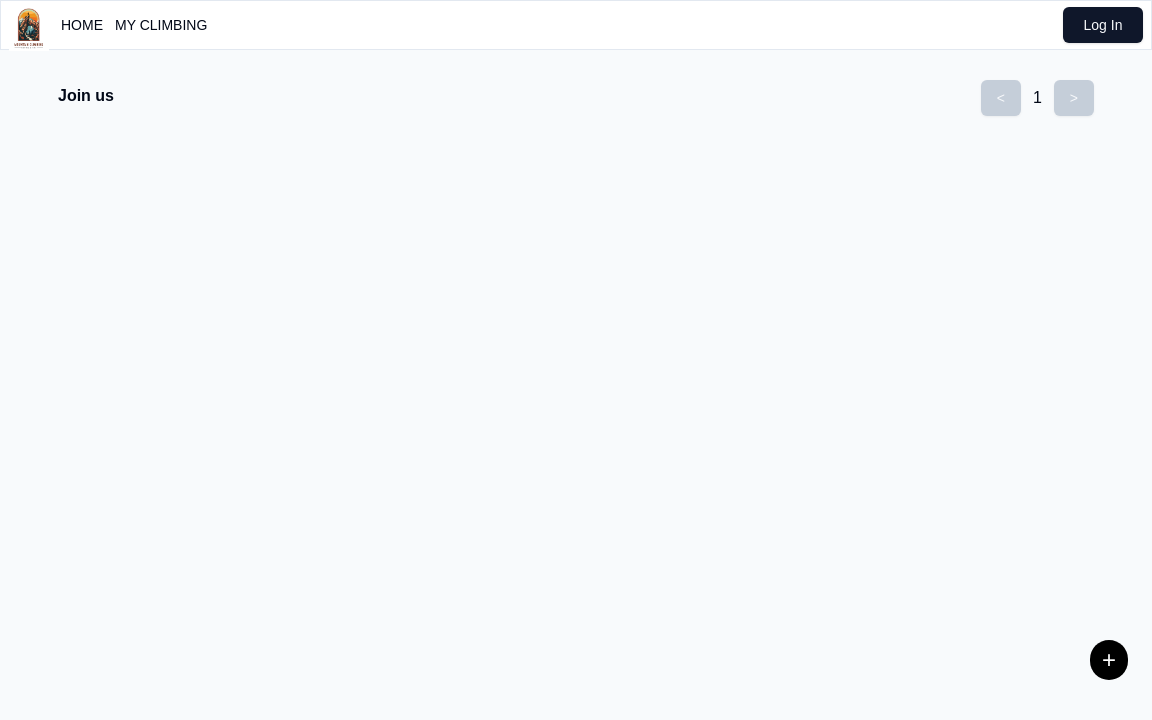
Test: login › should show alert with invalid email
Click the button "Log In": (1103, 25) 1063,7 -> 1143,43
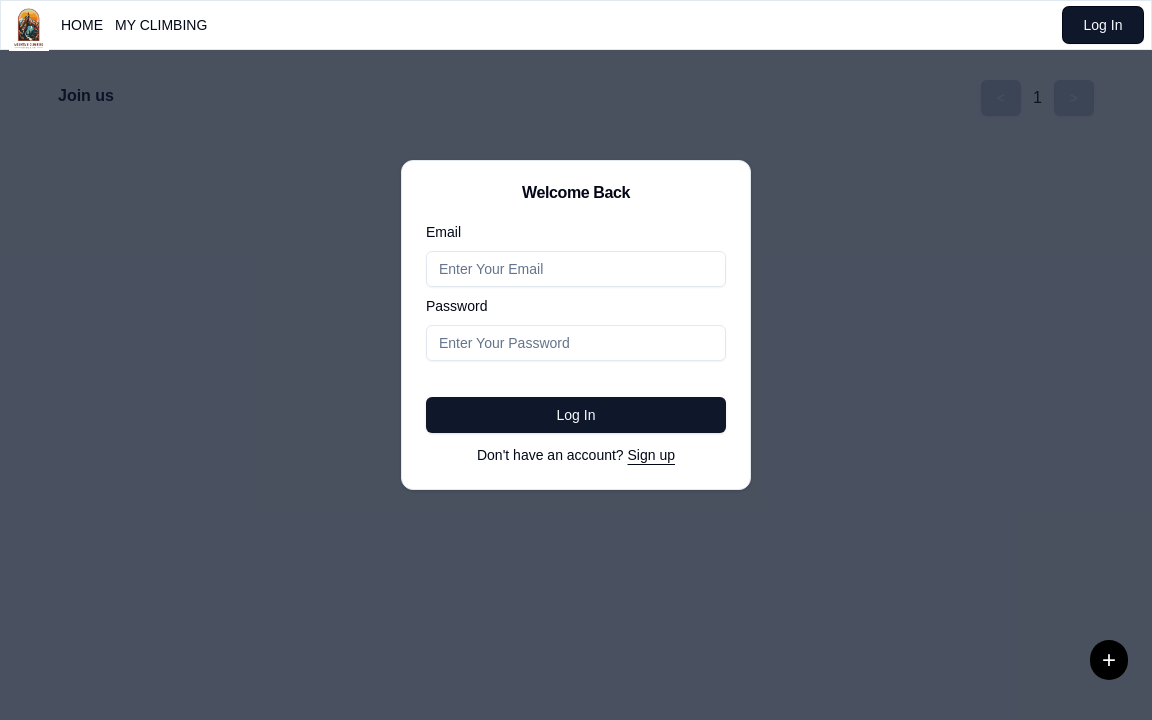
In the field with id "email": (576, 269) 426,251 -> 726,287, type "email"
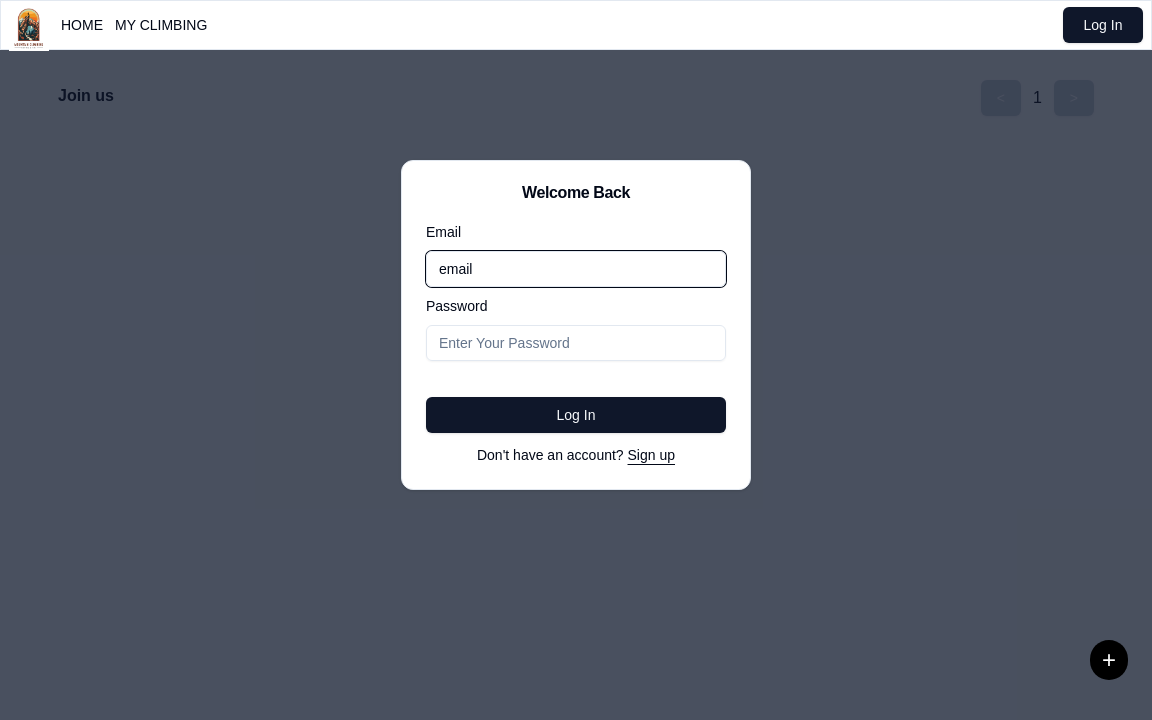
Click the button with class "inline-flex" below "Password": (576, 415) 426,397 -> 726,433
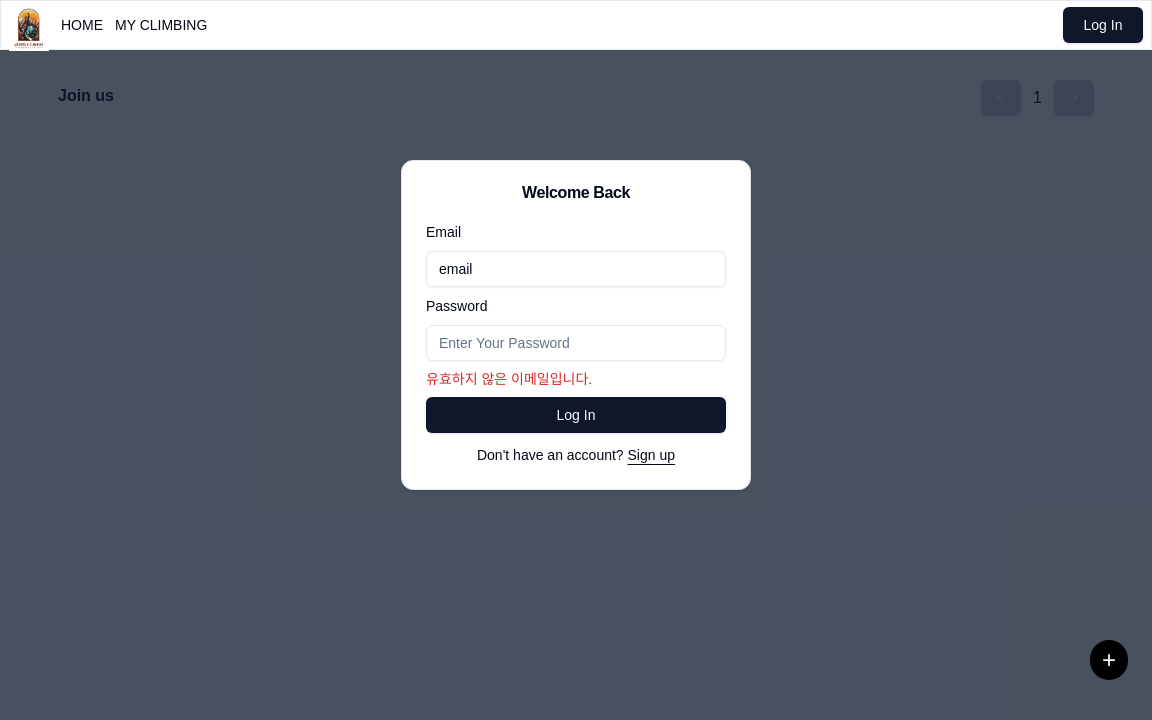
Check: the text "유효하지" is shown, box 426,371 -> 592,387
